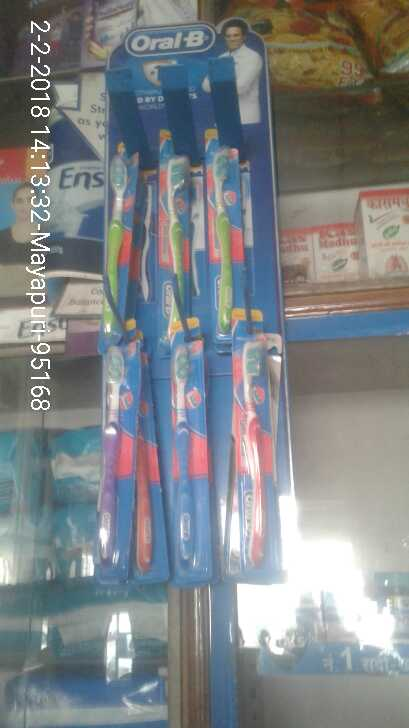oralb: (227, 347, 281, 561), (165, 347, 211, 558), (95, 354, 138, 567), (162, 145, 202, 341), (104, 155, 145, 340), (206, 143, 247, 325)
